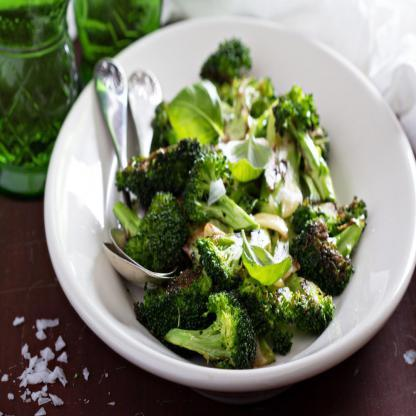broccoli: (113, 38, 370, 374)
